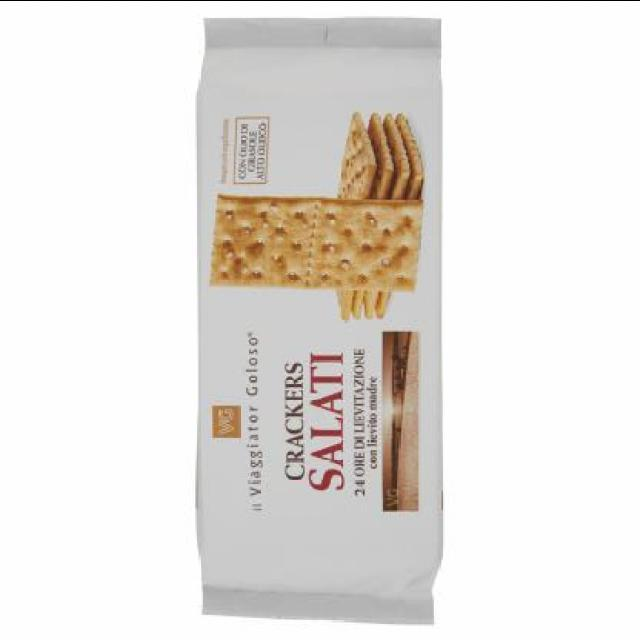Cracker: (192, 7, 448, 630)
